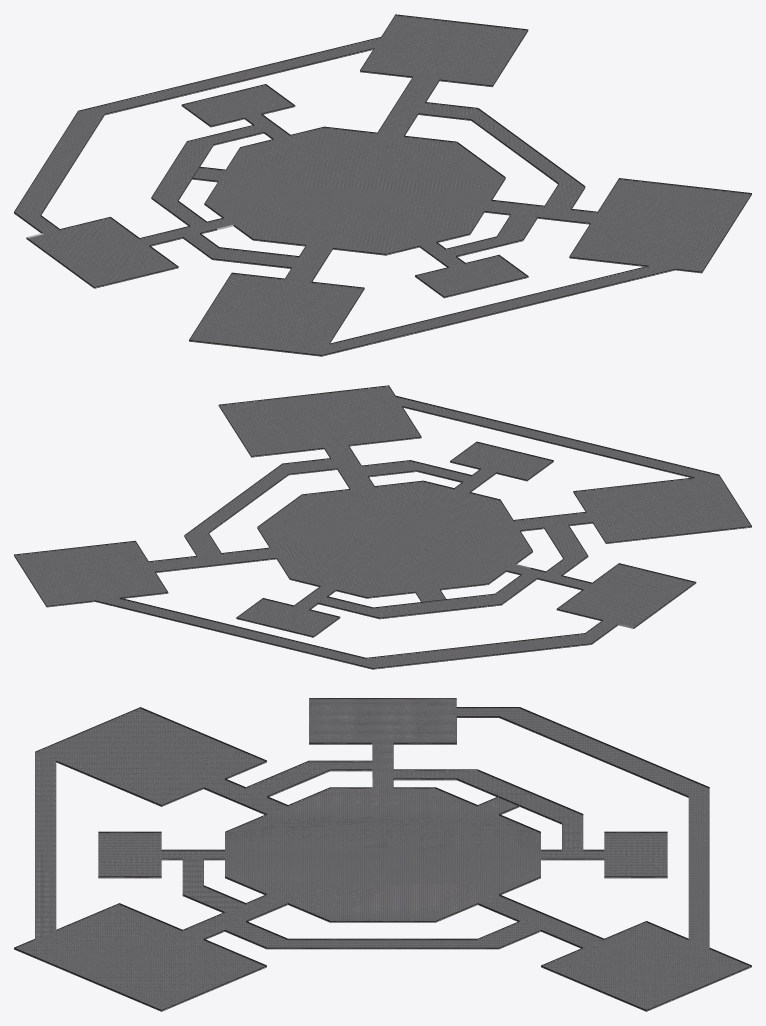
The model's file is dungeon layout 2 skinned.FBX.
3 renders of one model, top to bottom at view 1: azimuth 30°, elevation 25°; view 2: azimuth 150°, elevation 25°; view 3: azimuth 270°, elevation 25°, orthographic. The views are drawn at different scales.
Parts seen in each view (by area): view 1: Line022, Line015, Line013, Line011, Line012, Line017, Line021, Line009, Line020, Line014, Line016, Line018 (+6 smaller); view 2: Line022, Line015, Line013, Line011, Line012, Line017, Line021, Line014, Line009, Line020, Line016, Line018 (+8 smaller); view 3: Line022, Line015, Line013, Line011, Line012, Line017, Line021, Line014, Line009, Line020, Line016, Line018 (+9 smaller).
Boxes of the visible parts, bbox=[...] form: Line022: bbox=[190, 128, 504, 253]; Line015: bbox=[485, 179, 750, 271]; Line013: bbox=[190, 246, 363, 354]; Line011: bbox=[361, 16, 526, 136]; Line012: bbox=[28, 218, 199, 286]; Line017: bbox=[15, 38, 380, 234]; Line021: bbox=[323, 267, 670, 354]; Line009: bbox=[183, 85, 292, 140]; Line020: bbox=[419, 103, 584, 209]; Line014: bbox=[417, 243, 526, 296]; Line016: bbox=[152, 126, 261, 226]; Line018: bbox=[185, 234, 298, 268]; Line022: bbox=[258, 482, 545, 601]; Line015: bbox=[220, 386, 420, 490]; Line013: bbox=[513, 476, 750, 542]; Line011: bbox=[15, 542, 275, 605]; Line012: bbox=[539, 564, 693, 627]; Line017: bbox=[100, 599, 616, 667]; Line021: bbox=[396, 397, 718, 478]; Line014: bbox=[452, 443, 551, 493]; Line009: bbox=[238, 587, 338, 635]; Line020: bbox=[185, 459, 335, 556]; Line016: bbox=[320, 575, 534, 617]; Line018: bbox=[545, 526, 587, 576]; Line022: bbox=[225, 771, 540, 920]; Line015: bbox=[16, 896, 285, 1009]; Line013: bbox=[35, 709, 287, 815]; Line011: bbox=[480, 896, 749, 1009]; Line012: bbox=[309, 699, 456, 770]; Line017: bbox=[456, 708, 709, 948]; Line021: bbox=[35, 753, 56, 939]; Line014: bbox=[98, 833, 224, 876]; Line009: bbox=[541, 833, 667, 876]; Line020: bbox=[227, 922, 538, 947]; Line016: bbox=[393, 771, 583, 851]; Line018: bbox=[246, 762, 372, 797].
Size of the model in its own units: 2917 by 8 by 2917.
